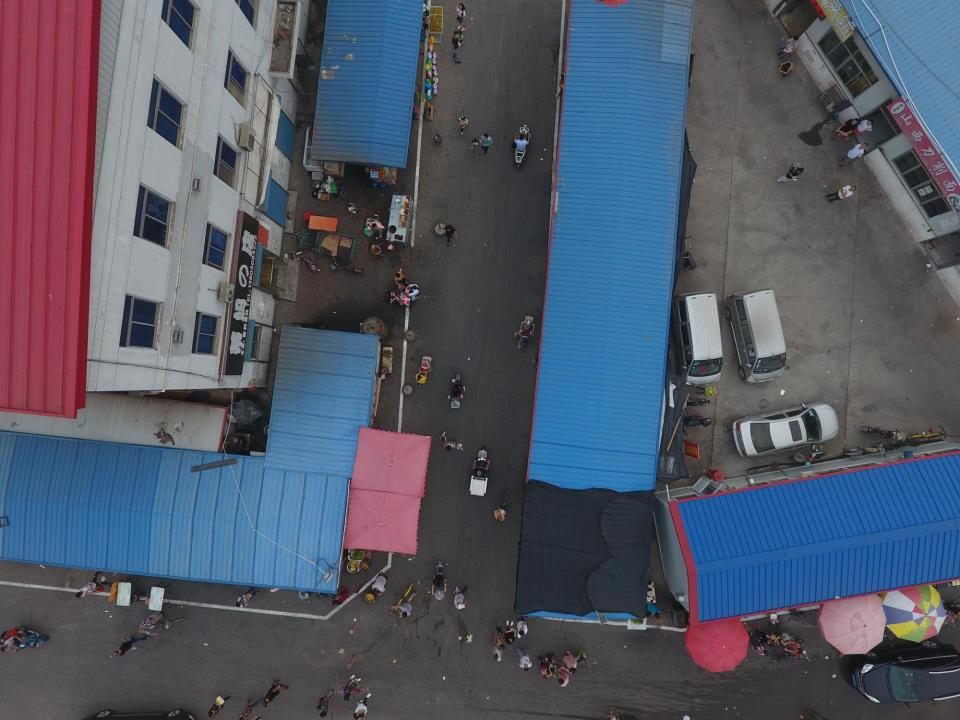car: (848, 640, 960, 703), (731, 402, 838, 458)
van: (725, 288, 790, 384), (669, 291, 728, 386)
